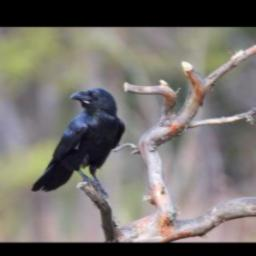Crow: (29, 86, 126, 196)
